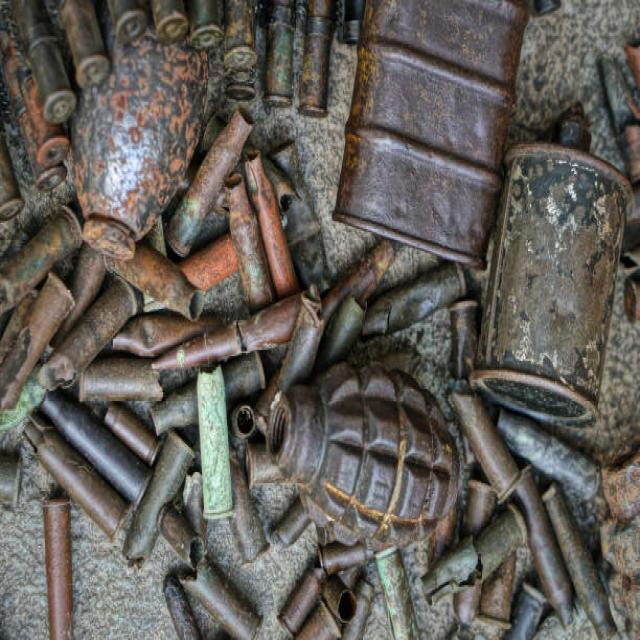grenade: (265, 358, 473, 558)
